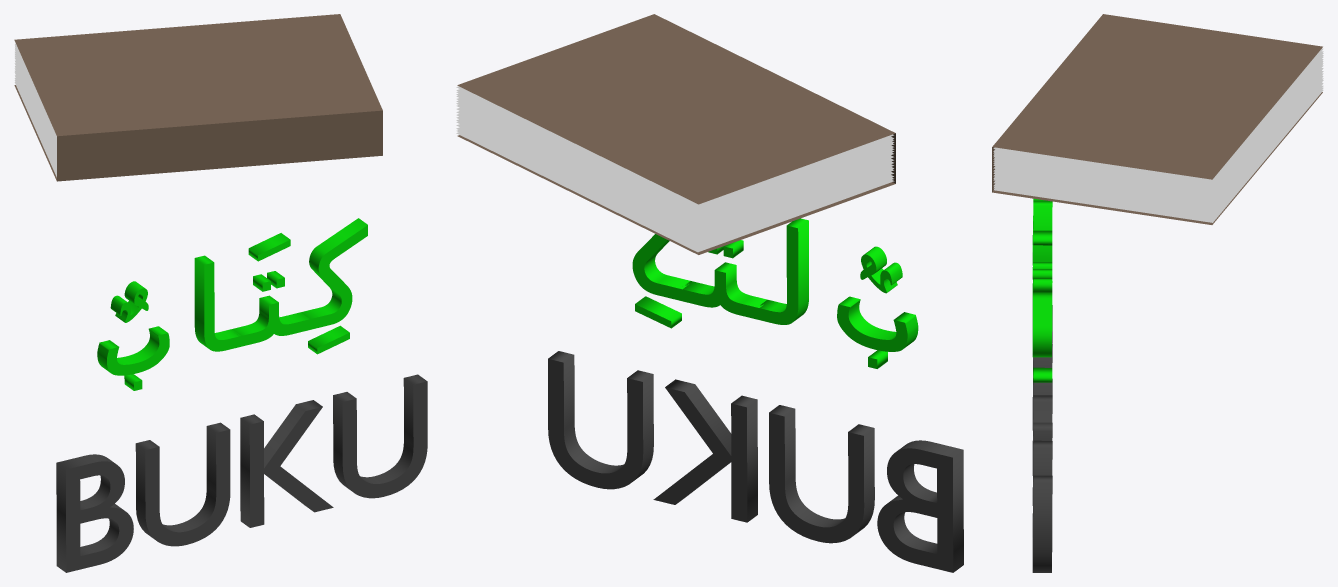
File: ta hunm.fbx
3 views of the same model, side by side, from view 1: azimuth 30°, elevation 25°; view 2: azimuth 150°, elevation 25°; view 3: azimuth 270°, elevation 25° (orthographic). The views are drawn at different scales.
Parts seen in each view (by area): view 1: sites, Text.004, Text, Plane.019, Text.003, Text.002, Text.001; view 2: sites, Text.004, Plane.019, Text, Text.003, Text.001; view 3: sites, Plane.019, Text.004, Text.
Part boxes in pixels (x1=…): sites: x1=14, y1=14, x2=382, y2=181; Text.004: x1=56, y1=374, x2=427, y2=572; Text: x1=97, y1=218, x2=367, y2=390; Plane.019: x1=14, y1=41, x2=56, y2=177; Text.003: x1=110, y1=281, x2=148, y2=322; Text.002: x1=248, y1=233, x2=290, y2=261; Text.001: x1=308, y1=325, x2=349, y2=354; sites: x1=457, y1=14, x2=895, y2=254; Text.004: x1=548, y1=351, x2=963, y2=572; Plane.019: x1=456, y1=86, x2=894, y2=252; Text: x1=632, y1=218, x2=918, y2=368; Text.003: x1=860, y1=246, x2=902, y2=293; Text.001: x1=635, y1=296, x2=681, y2=328; sites: x1=992, y1=14, x2=1322, y2=224; Plane.019: x1=993, y1=48, x2=1323, y2=222; Text.004: x1=1032, y1=305, x2=1052, y2=572; Text: x1=1032, y1=200, x2=1052, y2=357.
Bounding box in the file's own units: 440 × 470 × 345.
